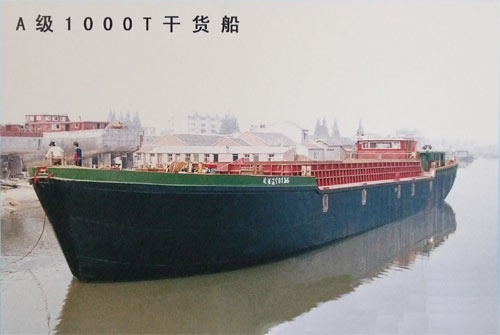Cargoship: (26, 105, 459, 284)
